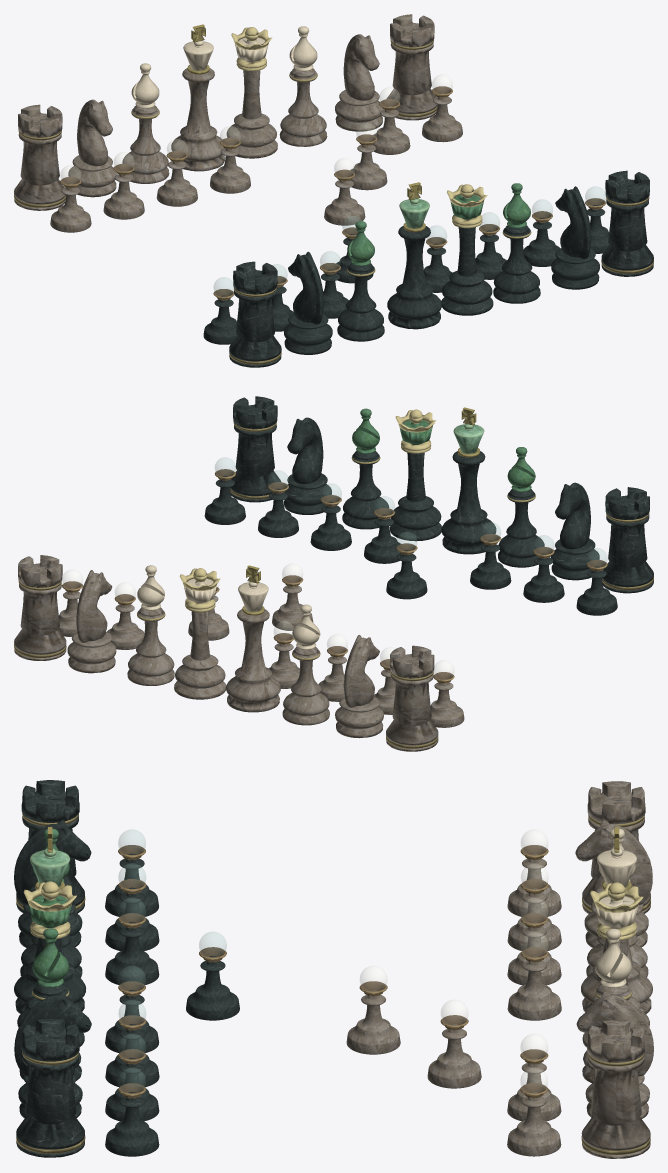
The model's file is pieces-staunton.glb.
3 renders of one model, top to bottom at view 1: azimuth 30°, elevation 25°; view 2: azimuth 150°, elevation 25°; view 3: azimuth 270°, elevation 25°, orthographic. The views are drawn at different scales.
Visible parts, largest first — view 1: Castle_B2, Castle_B1, Castle_W2, King_B, Castle_W1, Queen_B, King_W, Queen_W, Knight_W1, Knight_B2, Knight_B1, Knight_W2 (+20 smaller); view 2: Castle_W2, Castle_W1, Castle_B1, King_W, Castle_B2, King_B, Queen_W, Queen_B, Knight_W1, Knight_W2, Knight_B1, Knight_B2 (+20 smaller); view 3: Castle_B2, Castle_W1, Castle_B1, Knight_W2, Knight_B1, Castle_W2, King_W, King_B, Queen_B, Queen_W, Knight_W1, Knight_B2 (+36 smaller).
Boxes of the visible parts, bbox=[...] form: Castle_B2: bbox=[601, 170, 653, 276]; Castle_B1: bbox=[229, 261, 281, 367]; Castle_W2: bbox=[14, 104, 65, 210]; King_B: bbox=[387, 182, 441, 329]; Castle_W1: bbox=[386, 14, 437, 120]; Queen_B: bbox=[441, 184, 493, 315]; King_W: bbox=[171, 24, 224, 171]; Queen_W: bbox=[226, 27, 277, 158]; Knight_W1: bbox=[335, 34, 383, 131]; Knight_B2: bbox=[551, 186, 599, 289]; Knight_B1: bbox=[284, 251, 332, 354]; Knight_W2: bbox=[68, 99, 117, 197]; Castle_W2: bbox=[386, 645, 438, 751]; Castle_W1: bbox=[14, 555, 66, 660]; Castle_B1: bbox=[602, 487, 653, 593]; King_W: bbox=[226, 565, 280, 712]; Castle_B2: bbox=[230, 396, 281, 502]; King_B: bbox=[441, 407, 496, 554]; Queen_W: bbox=[174, 568, 226, 699]; Queen_B: bbox=[390, 409, 441, 541]; Knight_W1: bbox=[67, 570, 116, 673]; Knight_W2: bbox=[335, 635, 383, 738]; Knight_B1: bbox=[551, 482, 599, 580]; Knight_B2: bbox=[284, 417, 331, 514]; Castle_B2: bbox=[16, 1018, 85, 1157]; Castle_W1: bbox=[581, 1020, 650, 1158]; Castle_B1: bbox=[16, 780, 85, 913]; Knight_W2: bbox=[575, 820, 652, 947]; Knight_B1: bbox=[14, 820, 91, 947]; Castle_W2: bbox=[582, 781, 650, 913]; King_W: bbox=[581, 827, 652, 1013]; King_B: bbox=[14, 827, 86, 1013]; Queen_B: bbox=[17, 881, 84, 1046]; Queen_W: bbox=[582, 882, 649, 1047]; Knight_W1: bbox=[576, 991, 653, 1118]; Knight_B2: bbox=[14, 991, 91, 1118].
Bounding box in the file's own units: 0.4924 × 0.1541 × 0.4972.
14 materials, 12 textured.
